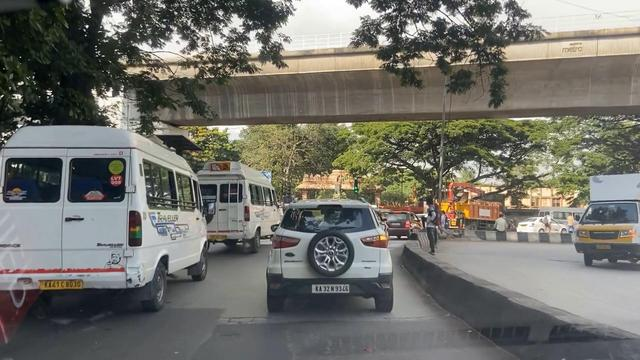HMV: (4, 142, 202, 314), (199, 171, 270, 248)
LMV: (272, 208, 388, 309)
